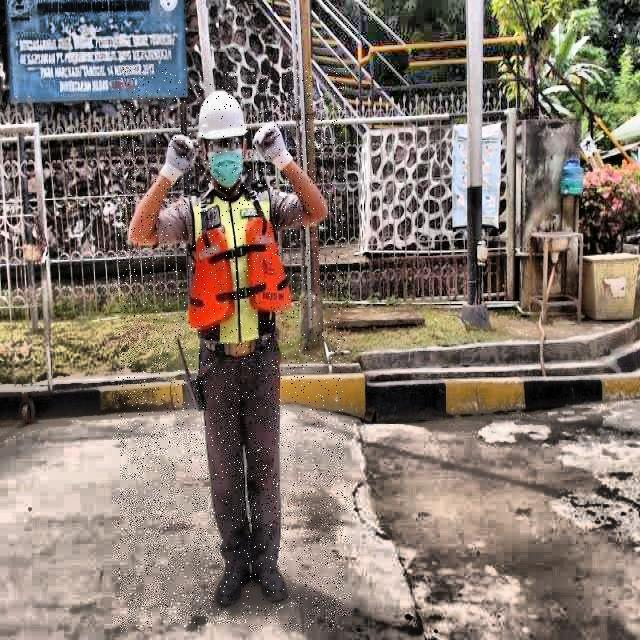safety_helmet: (196, 89, 252, 139)
safety_jacket: (188, 187, 290, 340)
